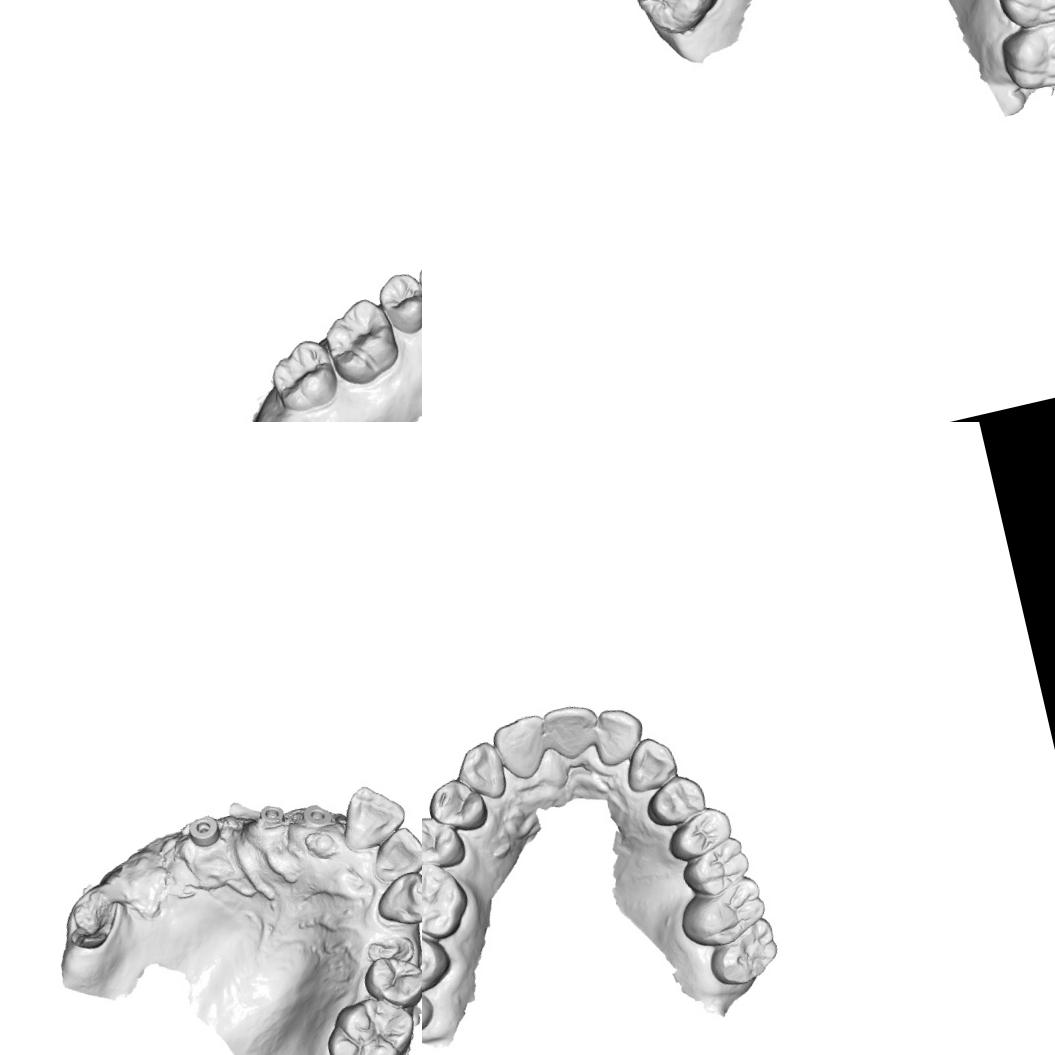canine: (617, 730, 683, 796), (450, 737, 511, 807), (367, 866, 422, 933)
implant: (184, 810, 224, 851), (298, 800, 336, 836), (256, 799, 289, 833)
incisor: (331, 777, 412, 857), (488, 710, 556, 785), (538, 698, 604, 766), (586, 702, 650, 770), (363, 821, 422, 884)
molar: (318, 291, 406, 392), (672, 872, 772, 954), (317, 987, 422, 1055), (262, 333, 343, 417), (701, 914, 786, 992), (675, 833, 756, 902), (422, 852, 477, 949), (994, 12, 1055, 97), (623, 0, 727, 44), (422, 914, 457, 1002), (988, 0, 1055, 34), (422, 957, 440, 1047)
premolar: (660, 802, 739, 866), (422, 771, 492, 840), (357, 946, 422, 1017), (640, 769, 710, 832), (372, 267, 422, 339), (422, 808, 469, 876)
